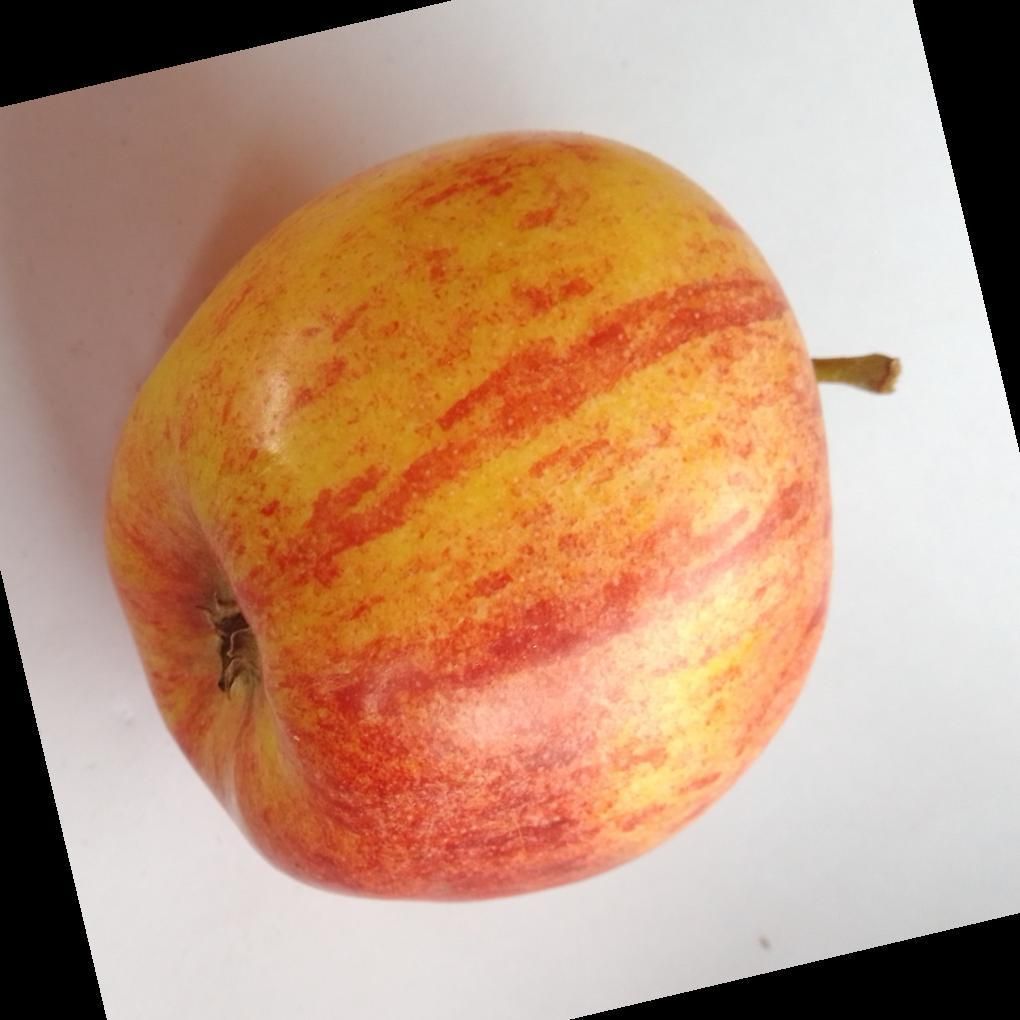FreshGuava: (100, 131, 835, 907)
